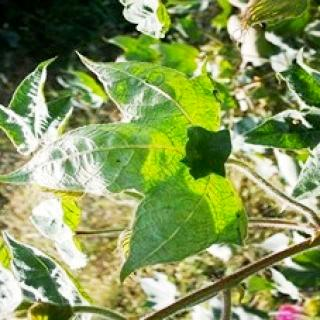curl: (14, 56, 240, 282)
